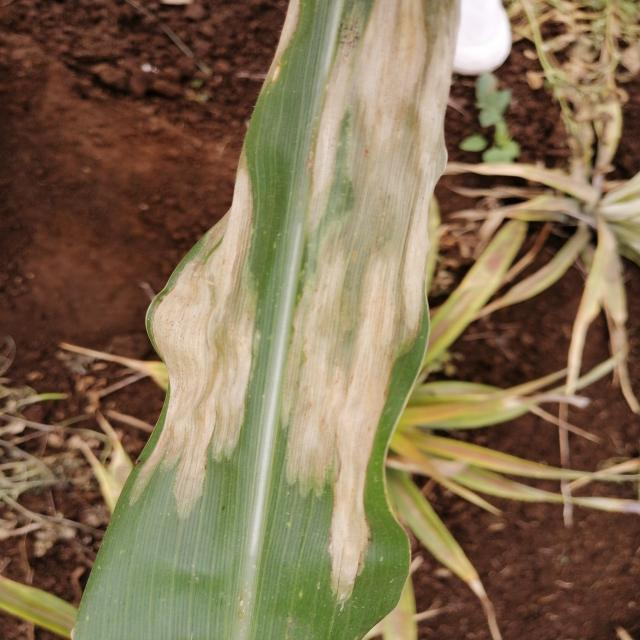Corn_Leaf_Blight: (115, 0, 458, 640)
